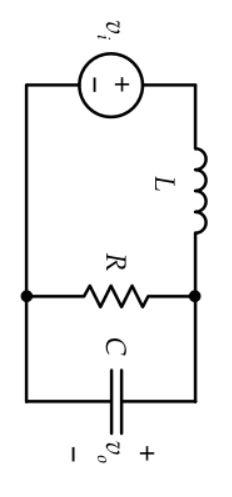Capacitor: (88, 360, 143, 433)
